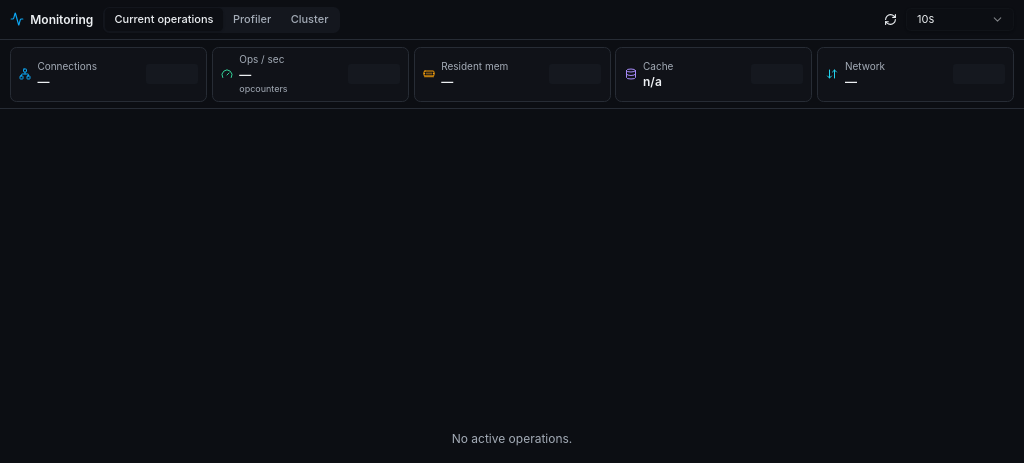
Test case: MonitoringView › shows a friendly empty state for standalone (non-replica-set) servers
The image size is (1024, 463).
Click the tab with test id "mon-tab-cluster".
click(310, 20)  # box [281,8,338,31]
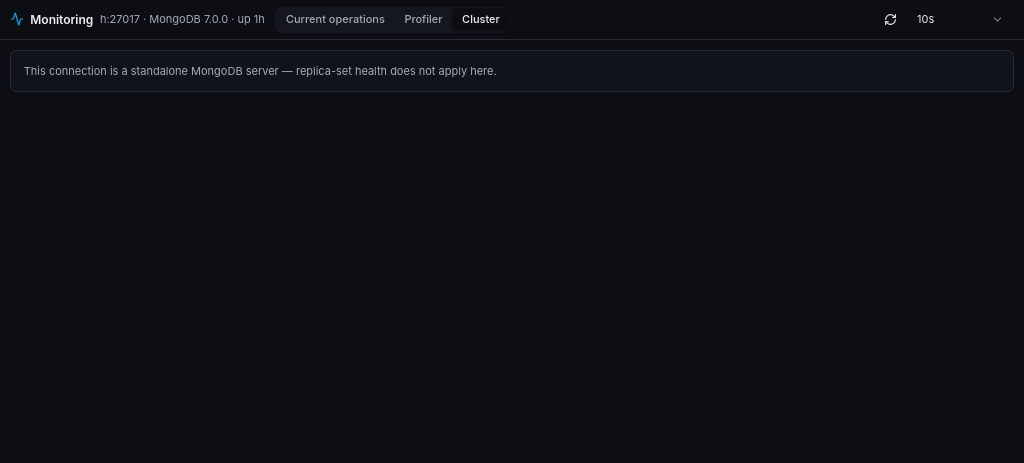
Result: the text with test id "cluster-not-replset" is shown at [10,50,1014,92]
